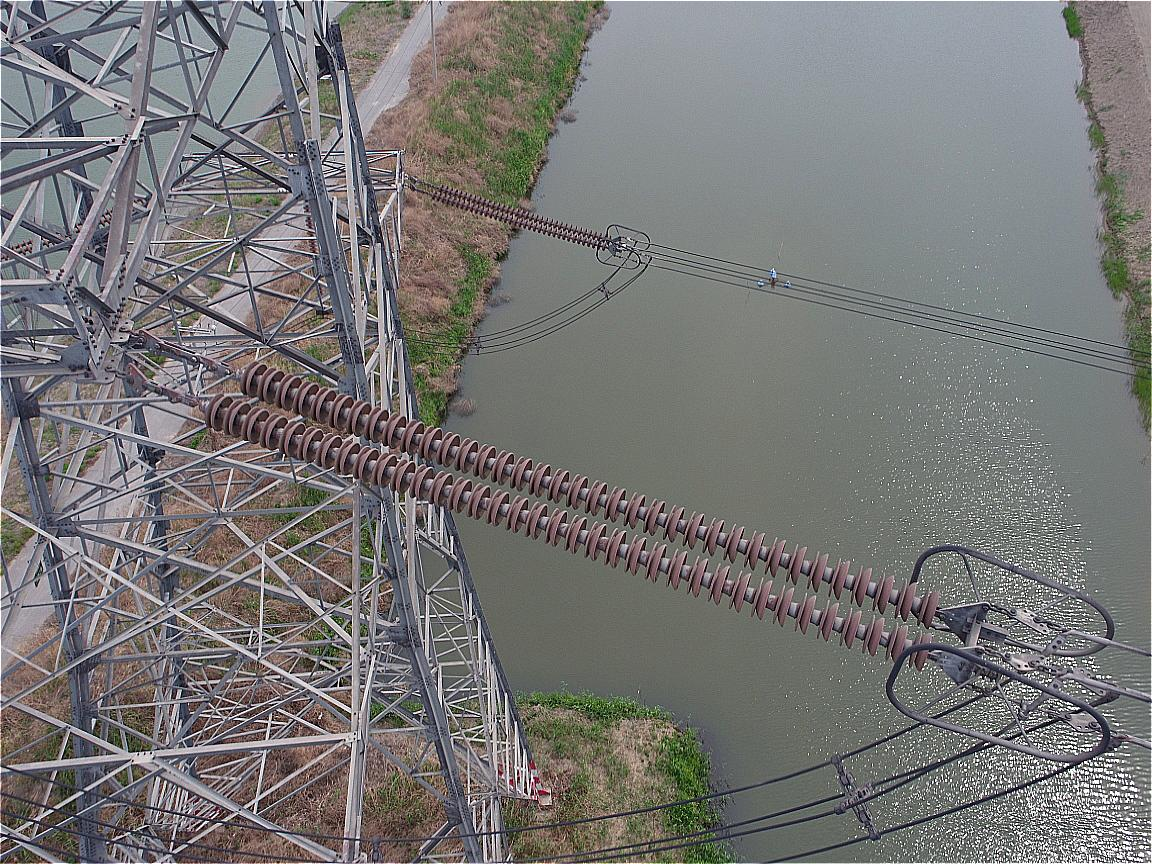insultor1: (394, 146, 636, 253)
insultor2: (202, 338, 959, 677)
